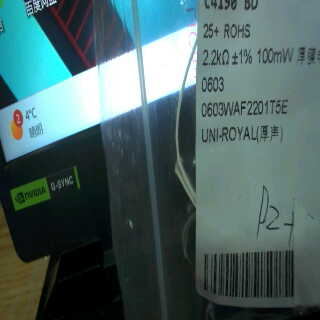2.2kR: (198, 45, 231, 71)
